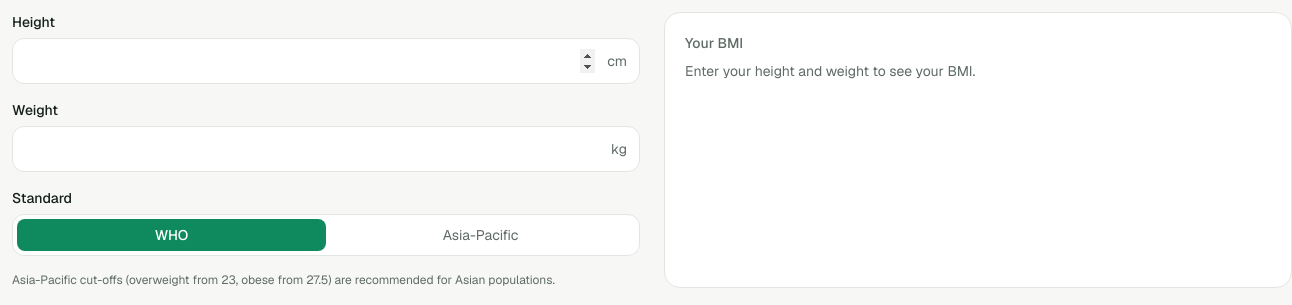
BmiCalculator › computes BMI, category and healthy range
This screenshot has width=1292, height=305.
Type "175" into the number field labelled "Height". click: (310, 61)
box: [13,39,607,83]
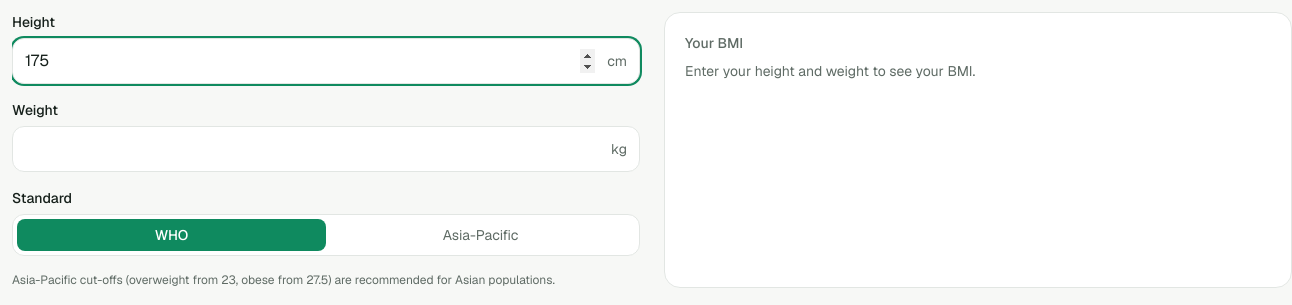
Type "70" into the number field labelled "Weight". click: (312, 149)
box: [13,127,611,171]
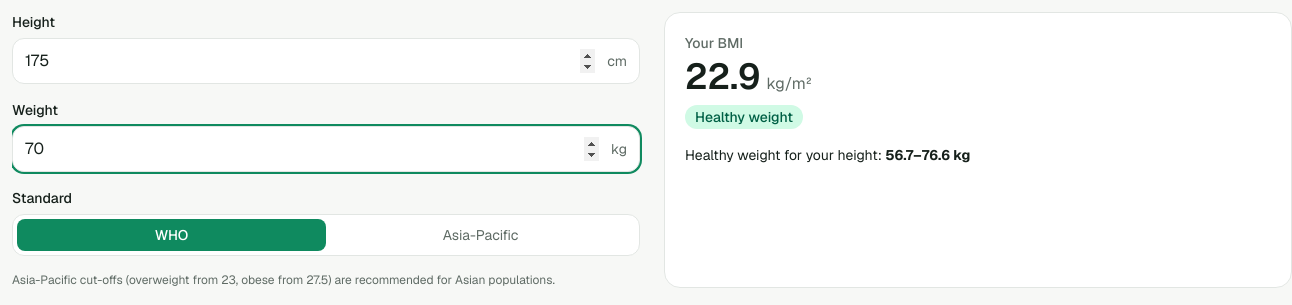
Expected: the text with test id "result-value" reads "22.9", [685,53,760,100]
Expected: the text "Healthy weight" is shown, [685,105,803,129]
Expected: the text "56.7–76.6 kg" is shown, [885,146,970,164]
